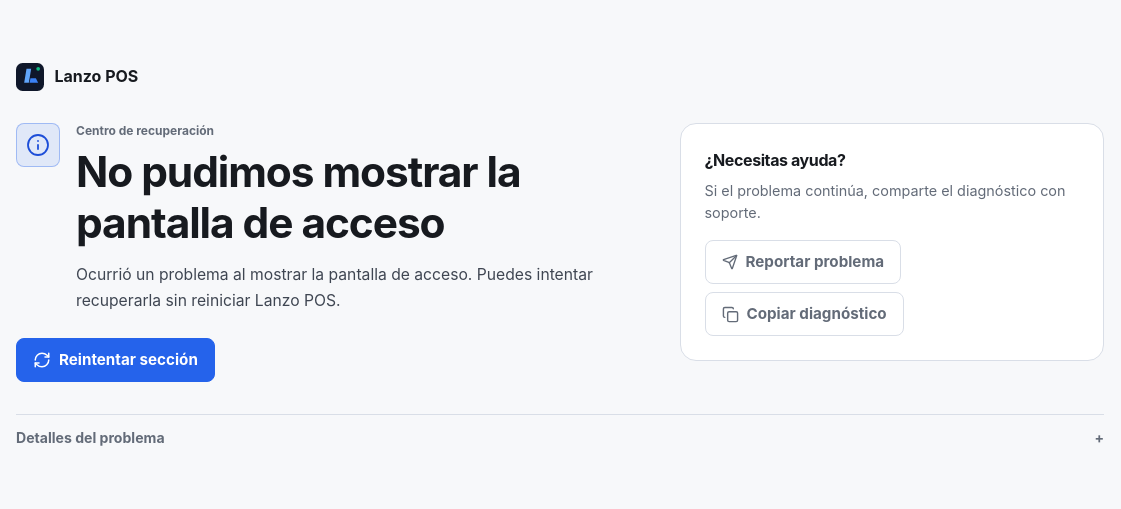
Recovery presentation in real application contexts › keeps the retry budget and its explanation after a persistent Welcome fault
Click the button "Reintentar sección": (115, 360) top-left (16, 338), bottom-right (215, 382)
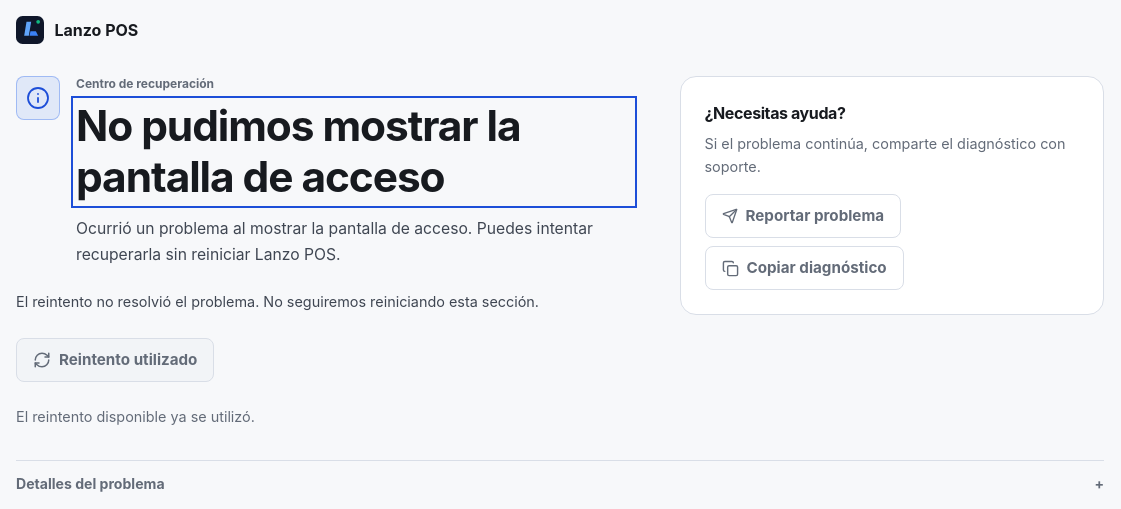
Expected: the element "¿Necesitas ayuda?" is shown, top-left (680, 76), bottom-right (1104, 315)
Expected: the button "Reintento utilizado" is disabled, top-left (16, 338), bottom-right (214, 382)
Expected: the text "El reintento no resolvió el problema. No seguiremos reiniciando esta sección." is shown, top-left (16, 292), bottom-right (561, 314)
